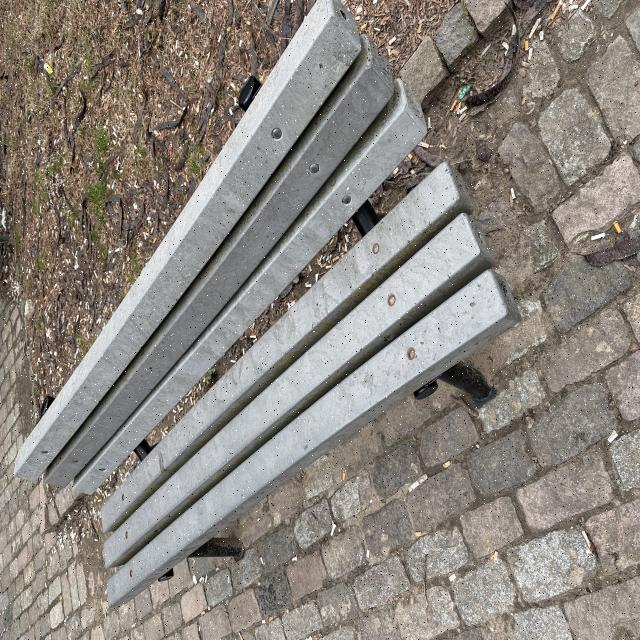Bench: (142, 277, 464, 640)
